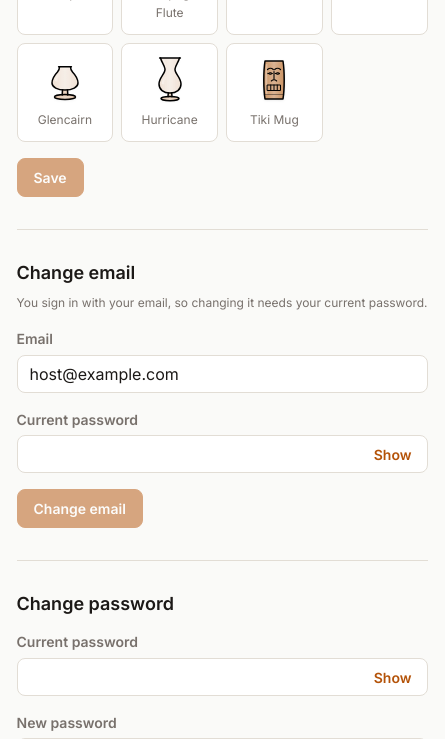
Test case: changing the email › shows why the server refused the email, and keeps what was typed
(page scrolled)
Replace the text in the field labelled "Email" with "new@example.com" at (222, 374), box [16, 355, 428, 393]
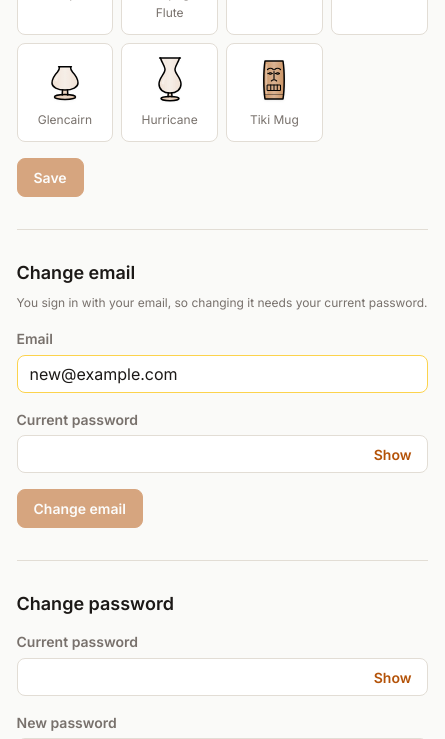
Type "wrong" into the 1st password field labelled "Current password" at (222, 454), box [16, 435, 428, 473]
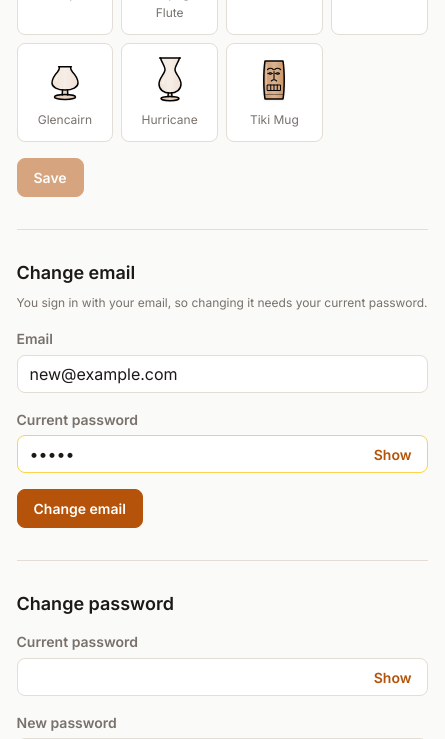
Click the button "Change email" at (80, 508), box [16, 489, 143, 528]
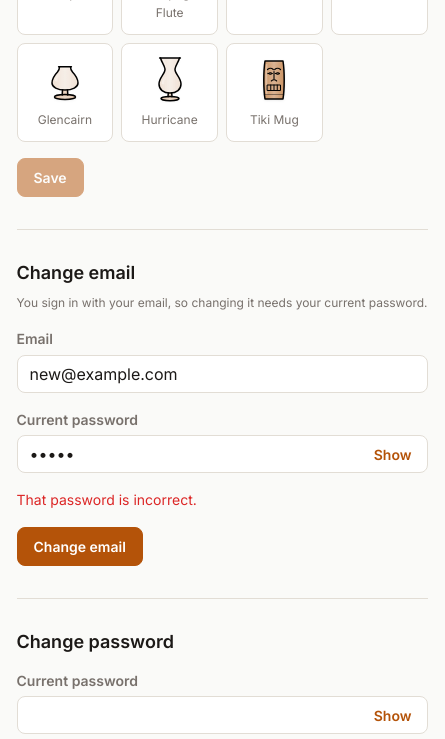
Expected: the message reads "That password is incorrect.", [16, 491, 197, 508]
